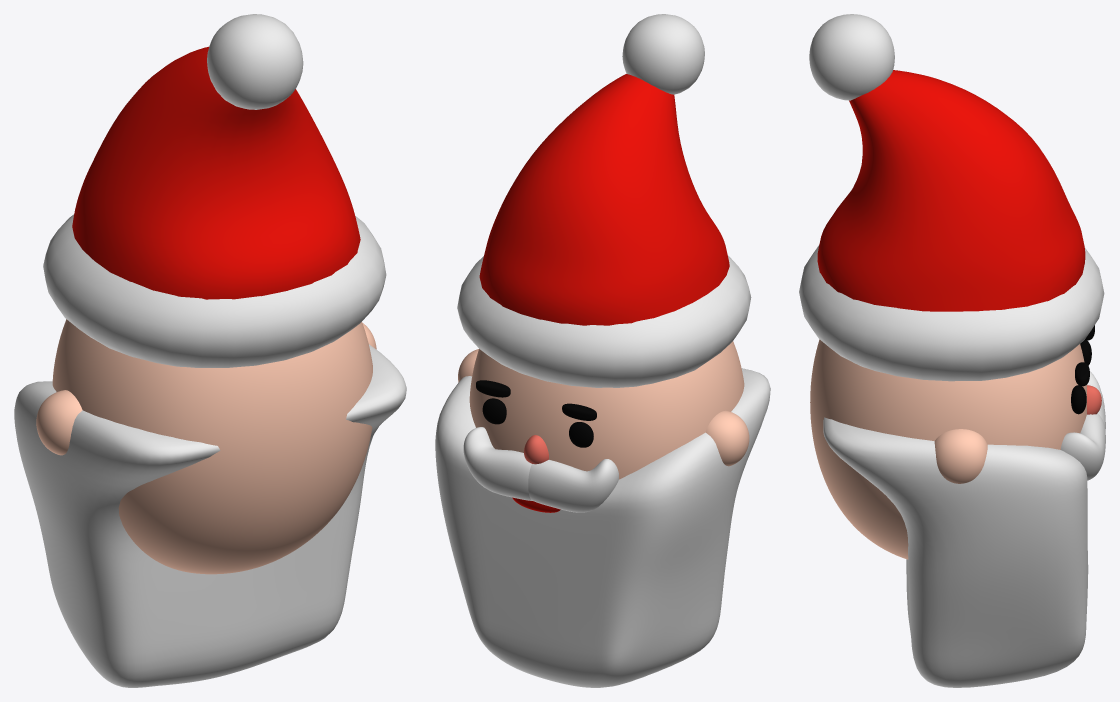
The model's file is santa_final.glb.
3 renders of one model, left to right at view 1: azimuth 30°, elevation 25°; view 2: azimuth 150°, elevation 25°; view 3: azimuth 270°, elevation 25°, orthographic. The views are drawn at different scales.
Visible parts, largest first — view 1: Cube.011, Cube.003, Cube, Cube.006, Cube.010, Cube.002; view 2: Cube.011, Cube.003, Cube.006, Cube, Cube.009, Cube.010, Cube.002, Cube.005, Cube.004, Cube.007; view 3: Cube.003, Cube.011, Cube, Cube.006, Cube.010, Cube.001, Cube.009, Cube.004.
Part boxes in pixels (left/top/right/bottom): Cube.011: left=14, top=344, right=406, bottom=687; Cube.003: left=72, top=46, right=360, bottom=299; Cube: left=52, top=319, right=372, bottom=574; Cube.006: left=43, top=214, right=386, bottom=367; Cube.010: left=207, top=14, right=303, bottom=109; Cube.002: left=36, top=390, right=82, bottom=455; Cube.011: left=435, top=368, right=770, bottom=687; Cube.003: left=479, top=74, right=729, bottom=325; Cube.006: left=457, top=255, right=751, bottom=387; Cube: left=469, top=341, right=744, bottom=479; Cube.009: left=463, top=427, right=618, bottom=512; Cube.010: left=622, top=14, right=704, bottom=94; Cube.002: left=705, top=410, right=749, bottom=466; Cube.005: left=562, top=403, right=596, bottom=447; Cube.004: left=476, top=380, right=510, bottom=424; Cube.007: left=524, top=435, right=548, bottom=464; Cube.003: left=817, top=70, right=1085, bottom=311; Cube.011: left=823, top=417, right=1088, bottom=687; Cube: left=810, top=339, right=1087, bottom=559; Cube.006: left=799, top=245, right=1104, bottom=381; Cube.010: left=809, top=14, right=894, bottom=100; Cube.001: left=934, top=429, right=987, bottom=483; Cube.009: left=1060, top=371, right=1105, bottom=480; Cube.004: left=1071, top=362, right=1089, bottom=414.
Bounding box in the file's own units: 4.85 × 9.89 × 4.3.
